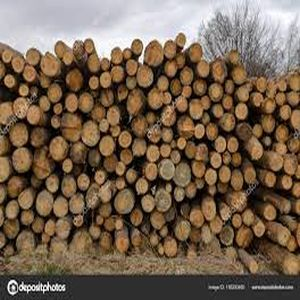log: (10, 147, 34, 180), (32, 148, 56, 180), (59, 113, 83, 143), (111, 187, 134, 216), (125, 86, 145, 119), (8, 122, 31, 149), (69, 229, 93, 253), (48, 135, 69, 162), (13, 228, 34, 255), (144, 40, 165, 67), (233, 223, 252, 252), (34, 190, 53, 218), (80, 121, 100, 147), (174, 114, 194, 139), (69, 140, 88, 165), (172, 218, 191, 243), (282, 250, 300, 276), (174, 162, 192, 187), (29, 126, 48, 149), (2, 217, 21, 240), (129, 229, 148, 252), (64, 68, 82, 92), (137, 64, 155, 88), (41, 52, 58, 77), (154, 189, 171, 214), (218, 224, 235, 249), (50, 196, 69, 218), (131, 116, 149, 139), (24, 104, 43, 125), (160, 105, 178, 127), (202, 197, 217, 223), (60, 174, 76, 198), (210, 59, 226, 83), (62, 93, 81, 113), (1, 100, 15, 127), (18, 207, 36, 228), (13, 97, 29, 120), (68, 192, 84, 215), (147, 86, 163, 109), (7, 177, 24, 198), (159, 159, 176, 180), (208, 82, 225, 103), (17, 188, 33, 210), (55, 218, 71, 240), (113, 233, 129, 255), (162, 236, 178, 258), (188, 42, 204, 64), (188, 207, 203, 230), (276, 226, 291, 249), (98, 136, 116, 155), (218, 114, 236, 133), (133, 177, 150, 197), (195, 59, 212, 79), (237, 121, 253, 142), (99, 87, 115, 108), (84, 187, 99, 209), (275, 123, 290, 145), (22, 47, 40, 65), (230, 68, 248, 86), (192, 79, 210, 97), (49, 238, 68, 255), (148, 211, 165, 230), (102, 154, 119, 173), (261, 115, 278, 134), (110, 44, 124, 67), (130, 39, 146, 59), (3, 199, 18, 220), (268, 151, 283, 172), (189, 99, 204, 120), (132, 139, 149, 157), (117, 130, 133, 149), (119, 147, 135, 166), (233, 103, 249, 122), (179, 66, 195, 85), (169, 79, 185, 98), (145, 230, 160, 250), (103, 217, 124, 231), (96, 201, 113, 218), (98, 185, 114, 203), (145, 144, 161, 162), (283, 154, 296, 176), (46, 84, 61, 103), (78, 93, 93, 112), (97, 231, 112, 250), (191, 160, 206, 179), (263, 203, 277, 223), (217, 164, 231, 184), (147, 125, 161, 145), (163, 39, 177, 59), (110, 64, 124, 84), (125, 58, 139, 78), (176, 95, 190, 115), (87, 54, 100, 75), (33, 239, 49, 256), (231, 193, 247, 210), (228, 173, 244, 190), (235, 86, 251, 103), (159, 125, 174, 143), (30, 215, 44, 234), (87, 149, 101, 168), (204, 167, 218, 186), (99, 68, 111, 90), (219, 203, 232, 223), (205, 123, 218, 143), (164, 59, 177, 79), (251, 221, 266, 238), (91, 104, 106, 121), (144, 164, 159, 181), (81, 36, 95, 54), (48, 115, 62, 133), (76, 174, 90, 192), (200, 226, 214, 244), (279, 172, 291, 193), (175, 50, 187, 71), (73, 40, 86, 59), (210, 216, 223, 235), (209, 151, 222, 170), (86, 225, 102, 240), (243, 208, 255, 228), (249, 145, 264, 161), (251, 90, 263, 110), (22, 65, 36, 82), (195, 144, 209, 161), (255, 76, 269, 93), (227, 49, 241, 66), (86, 74, 99, 92), (141, 195, 154, 213), (226, 137, 239, 155), (193, 123, 206, 141), (61, 47, 73, 66), (30, 173, 42, 192), (1, 157, 10, 182), (261, 98, 276, 113), (211, 103, 225, 119), (156, 76, 170, 92), (189, 227, 202, 244), (231, 151, 244, 168), (287, 89, 300, 106), (12, 56, 24, 74), (46, 175, 58, 193), (279, 103, 291, 121), (116, 85, 128, 103), (39, 75, 53, 90), (124, 168, 138, 183), (263, 172, 277, 187), (3, 73, 16, 89), (279, 198, 292, 214), (98, 57, 111, 73), (131, 210, 143, 227), (94, 168, 106, 185), (244, 168, 256, 185), (274, 91, 286, 108), (115, 176, 126, 194), (108, 109, 119, 127), (185, 141, 196, 159), (229, 214, 242, 229), (107, 123, 120, 138), (223, 80, 236, 95), (60, 158, 72, 174), (97, 118, 109, 134), (174, 187, 186, 203), (214, 137, 226, 153), (199, 94, 211, 110), (51, 102, 64, 116), (45, 219, 55, 237), (72, 214, 84, 229), (291, 110, 300, 130), (175, 33, 187, 48), (161, 91, 173, 106), (289, 73, 300, 89), (252, 122, 262, 139), (181, 84, 194, 97), (17, 83, 29, 97), (38, 96, 50, 110), (186, 183, 198, 197), (160, 224, 171, 239), (179, 204, 190, 219), (115, 161, 126, 176), (222, 96, 233, 111), (126, 75, 137, 90), (1, 51, 13, 64), (28, 85, 40, 98), (217, 182, 229, 195), (170, 150, 182, 163), (288, 137, 300, 150), (275, 79, 288, 91), (161, 144, 172, 158), (146, 110, 157, 124), (56, 41, 65, 58), (222, 151, 232, 166), (123, 46, 133, 61), (206, 186, 218, 197), (176, 137, 186, 150), (155, 246, 165, 258), (201, 112, 211, 124), (164, 182, 174, 193), (94, 215, 103, 226), (195, 178, 204, 189)
